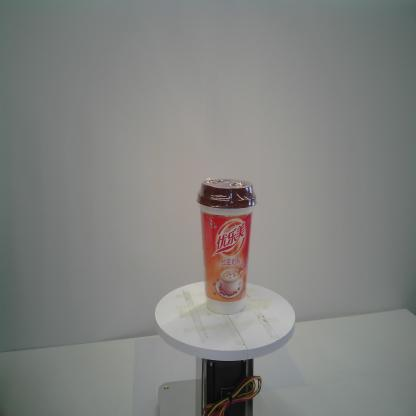Instant Drink: (195, 175, 257, 315)
